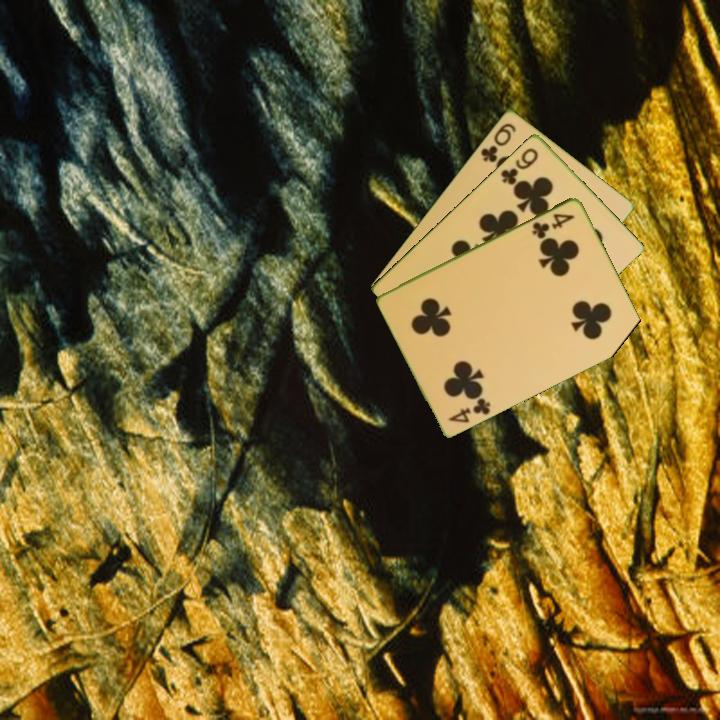4c: (528, 209, 577, 241), (445, 394, 494, 425)
6c: (477, 119, 519, 165)
9c: (497, 144, 541, 188)
